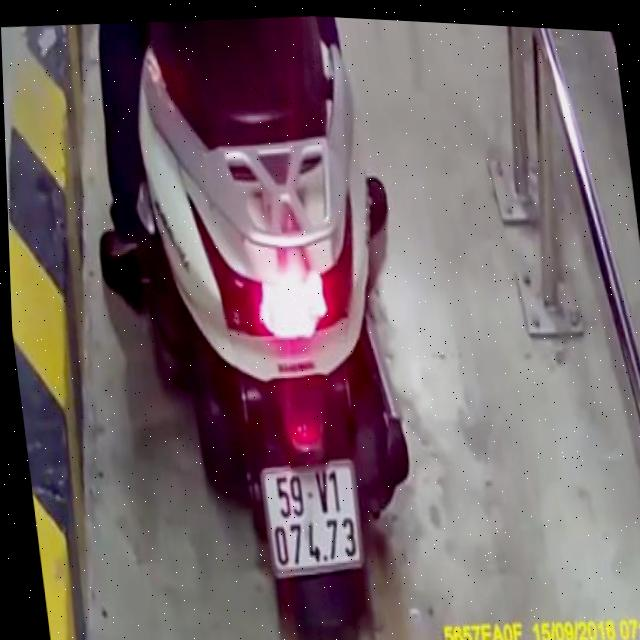motorcycle: (116, 6, 441, 640)
plate: (249, 453, 371, 584)
